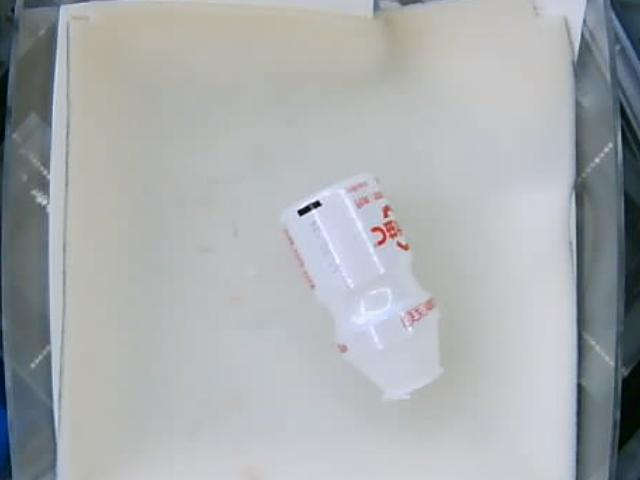Bottle: (281, 172, 447, 402)
